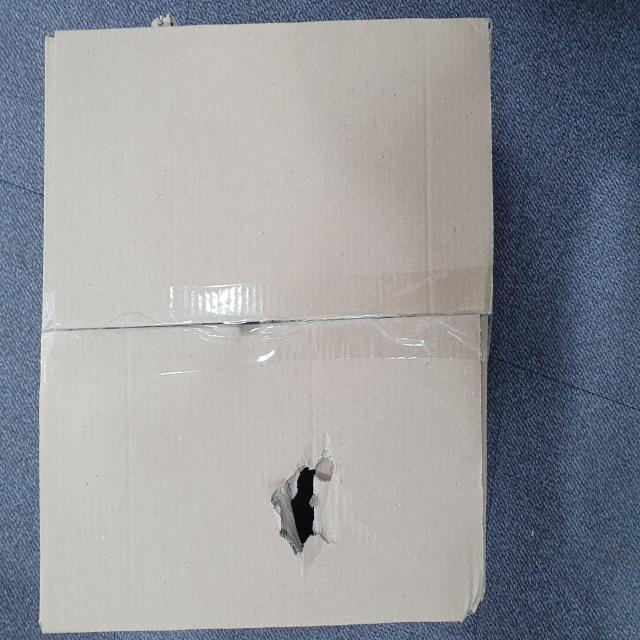damaged: (250, 550, 320, 640)
